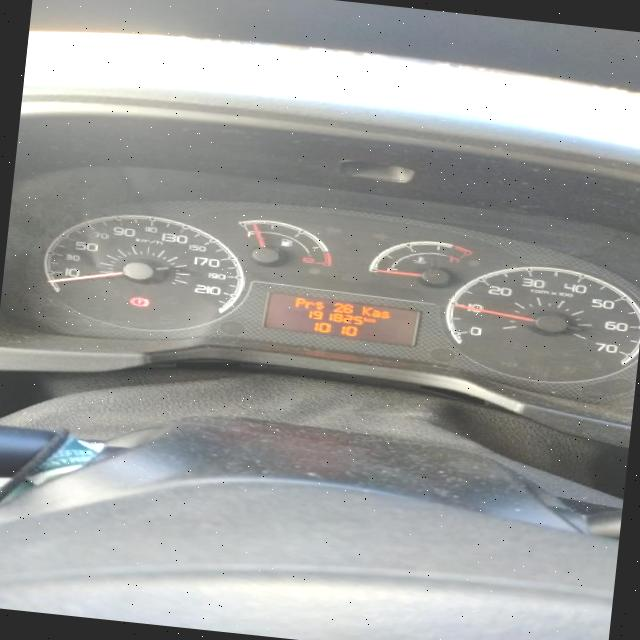odometer: (260, 290, 420, 346)
